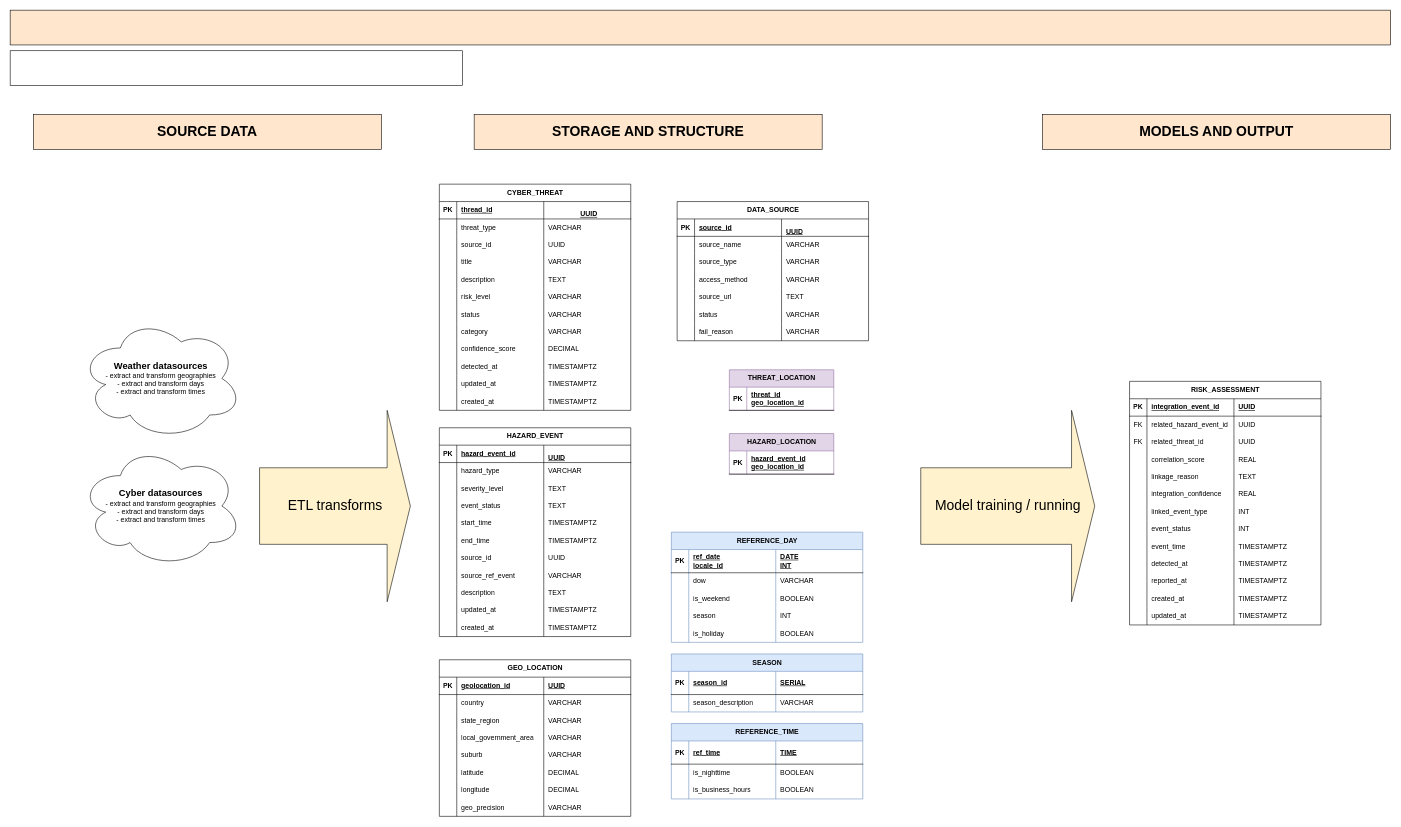
Some shapes in this 1401 by 827 pixel diagram are drawn without their labels. The centre of each missing label's shape, as x and y in pixels:
DATA SOURCE TO ERD TO MODEL PIPELINE: [700,27]
referencing : Data Sources.docx: [236,68]
